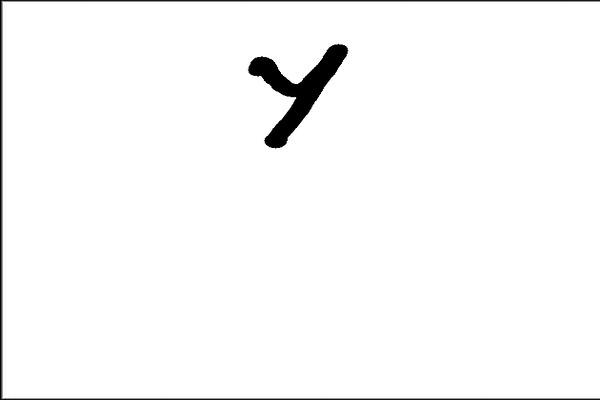Y: (234, 38, 354, 159)
